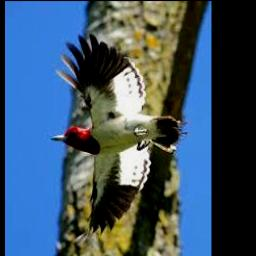Woodpecker: (51, 34, 187, 241)
